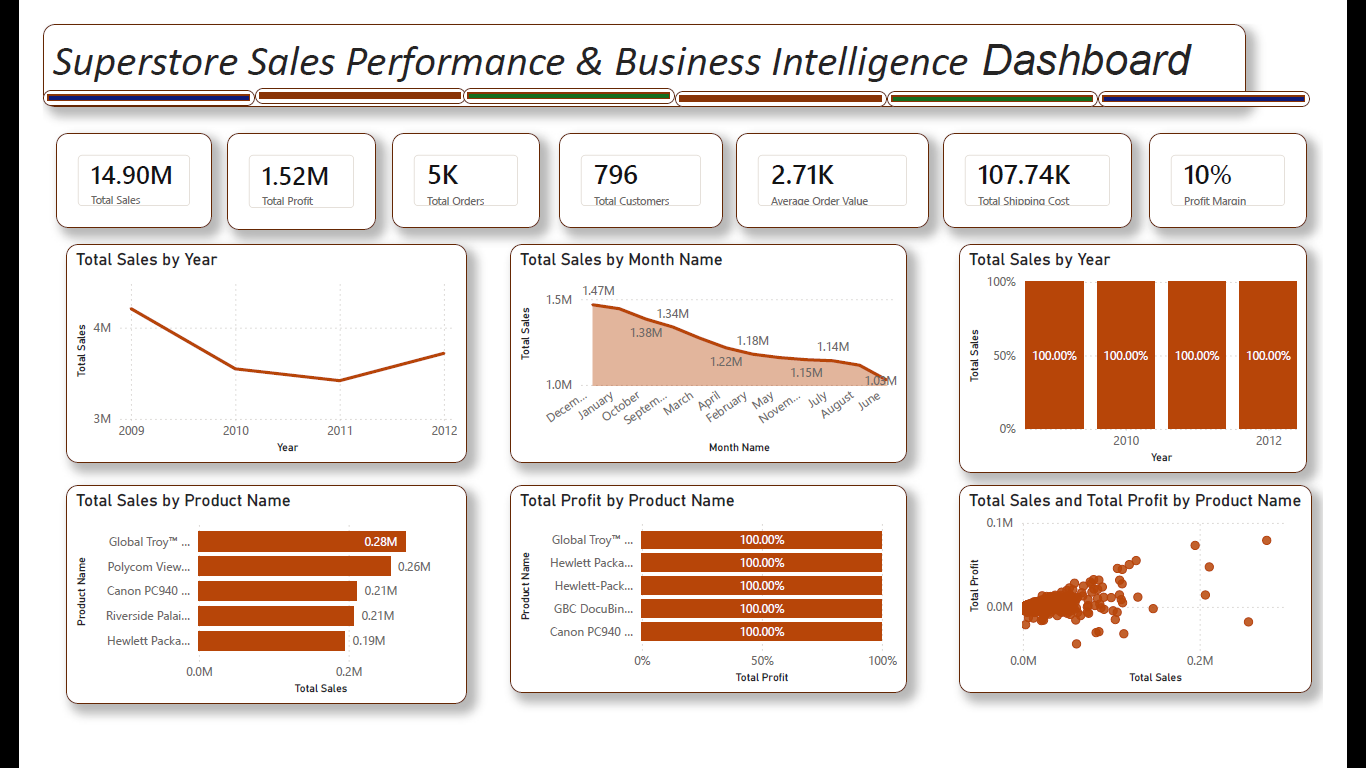

The page's visual inventory and layout, read from the dashboard file:
{"tool":"powerbi","page":{"name":"Page 1","canvas":[1280,720],"ordinal":0},"visuals":[{"type":"cardVisual","fields":{"Data":["Orders.Total Sales"]},"box":[10.1,95.7,166.3,109.2],"z":0},{"type":"cardVisual","fields":{"Data":["Orders.Total Profit"]},"box":[176.4,95.7,152.9,109.2],"z":1000},{"type":"cardVisual","fields":{"Data":["Orders.Total Orders"]},"box":[342.7,95.7,154.5,109.2],"z":2000},{"type":"cardVisual","fields":{"Data":["Orders.Total Customers"]},"box":[497.2,95.7,176.4,109.2],"z":3000},{"type":"cardVisual","fields":{"Data":["Orders.Average Order Value"]},"box":[674.6,95.1,199,109.8],"z":4000},{"type":"cardVisual","fields":{"Data":["Orders.Total Shipping Cost"]},"box":[873.5,95.7,204.9,109.2],"z":5000},{"type":"cardVisual","fields":{"Data":["Orders.Profit Margin"]},"box":[1078.4,95.7,157.9,109.2],"z":6000},{"type":"lineChart","fields":{"Category":["Orders.Order Date.Variation.Date Hierarchy.Year","Orders.Order Date.Variation.Date Hierarchy.Quarter","Orders.Order Date.Variation.Date Hierarchy.Month"],"Y":["Orders.Total Sales"]},"box":[40.3,220.1,433.4,218.4],"z":7000},{"type":"lineChart","fields":{"Category":["Orders.Month Name"],"Y":["Orders.Total Sales"]},"box":[497.2,220.1,433.4,218.4],"z":8000},{"type":"hundredPercentStackedColumnChart","fields":{"Category":["Orders.Order Date.Variation.Date Hierarchy.Year"],"Y":["Orders.Total Sales"]},"box":[942.4,220.1,337.6,218.4],"z":9000},{"type":"barChart","fields":{"Y":["Orders.Total Sales"],"Category":["Orders.Product Name"]},"box":[40.3,446.8,456.9,250.3],"z":10000},{"type":"hundredPercentStackedBarChart","fields":{"Category":["Orders.Product Name"],"Y":["Orders.Total Profit"]},"box":[502.3,446.8,450.2,250.3],"z":11000},{"type":"textbox","box":[0,0,1185.9,65.5],"z":12000},{"type":"shape","box":[0,58.8,211.7,15.1],"z":13000},{"type":"shape","box":[211.7,58.8,211.7,15.1],"z":14000},{"type":"shape","box":[423.3,58.8,211.7,15.1],"z":15000},{"type":"shape","box":[1058.3,58.8,211.7,15.1],"z":16000},{"type":"shape","box":[846.6,58.8,211.7,15.1],"z":17000},{"type":"shape","box":[635,58.8,211.7,15.1],"z":18000},{"type":"scatterChart","fields":{"X":["Orders.Total Sales"],"Y":["Orders.Total Profit"],"Category":["Orders.Product Name"]},"box":[976,450.2,294,246.9],"z":18001}]}

Visuals, with their boxes in screenshot pixels (x1, y1, x2, y2), scaled from the page's 1280x720 canvas onto the 1366x768 screenshot:
cardVisual - Orders.Total Sales: [11, 102, 188, 219]
cardVisual - Orders.Total Profit: [188, 102, 351, 219]
cardVisual - Orders.Total Orders: [366, 102, 531, 219]
cardVisual - Orders.Total Customers: [531, 102, 719, 219]
cardVisual - Orders.Average Order Value: [720, 101, 932, 219]
cardVisual - Orders.Total Shipping Cost: [932, 102, 1151, 219]
cardVisual - Orders.Profit Margin: [1151, 102, 1319, 219]
lineChart - Orders.Order Date.Variation.Date Hierarchy.Year x Orders.Order Date.Variation.Date Hierarchy.Quarter: [43, 235, 506, 468]
lineChart - Orders.Month Name x Orders.Total Sales: [531, 235, 993, 468]
hundredPercentStackedColumnChart - Orders.Order Date.Variation.Date Hierarchy.Year x Orders.Total Sales: [1006, 235, 1365, 468]
barChart - Orders.Total Sales x Orders.Product Name: [43, 477, 531, 744]
hundredPercentStackedBarChart - Orders.Product Name x Orders.Total Profit: [536, 477, 1016, 744]
textbox: [0, 0, 1266, 70]
shape: [0, 63, 226, 79]
shape: [226, 63, 452, 79]
shape: [452, 63, 678, 79]
shape: [1129, 63, 1355, 79]
shape: [903, 63, 1129, 79]
shape: [678, 63, 904, 79]
scatterChart - Orders.Total Sales x Orders.Total Profit: [1042, 480, 1355, 744]
